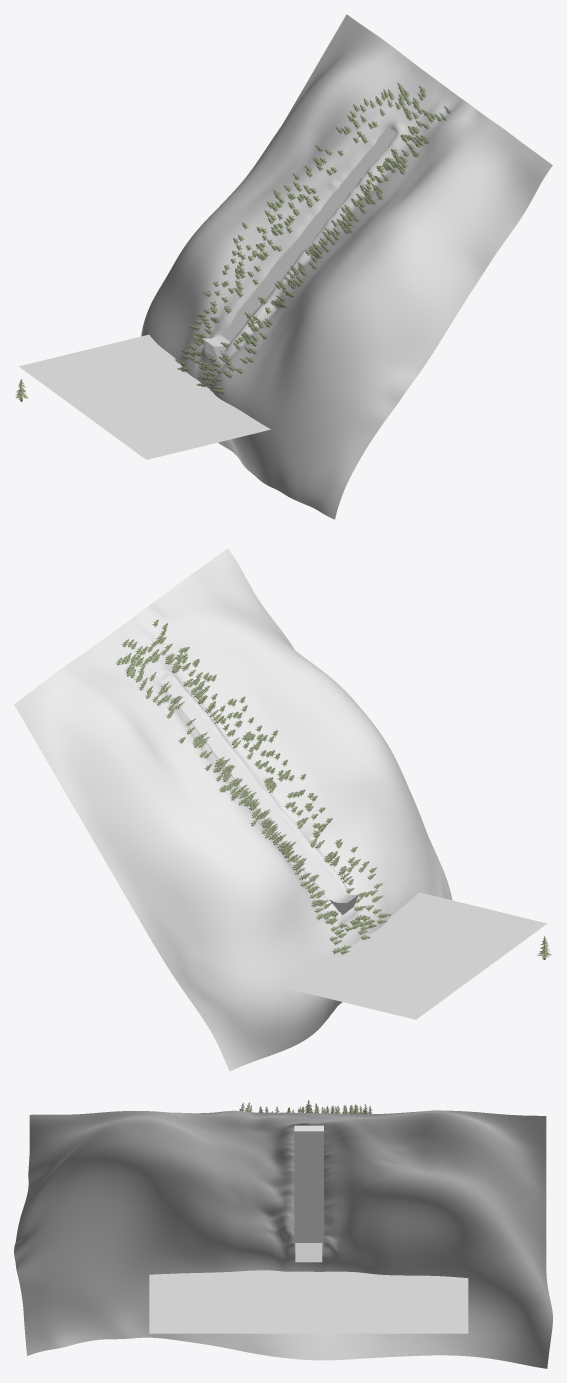
Rendered from terrainfixed.fbx.
3 views of the same model, one above another, from view 1: azimuth 30°, elevation 25°; view 2: azimuth 150°, elevation 25°; view 3: azimuth 270°, elevation 25° (orthographic). The views are drawn at different scales.
Parts seen in each view (by area): view 1: Landscape.002, Plane, Cube; view 2: Landscape.002, Plane, Cube; view 3: Landscape.002, Plane, Cube, Cube.002.
Boxes of the visible parts, x1,y1,x2,y2 form: Landscape.002: (141,14,552,519); Plane: (19,334,270,459); Cube: (219,127,395,341); Landscape.002: (14,548,452,1071); Plane: (282,892,547,1019); Cube: (161,675,338,901); Landscape.002: (14,1110,552,1368); Plane: (149,1270,468,1333); Cube: (294,1125,323,1249); Cube.002: (295,1243,322,1262).
Size of what is drawn, in the model's own units: 19616 by 13602 by 17197.
